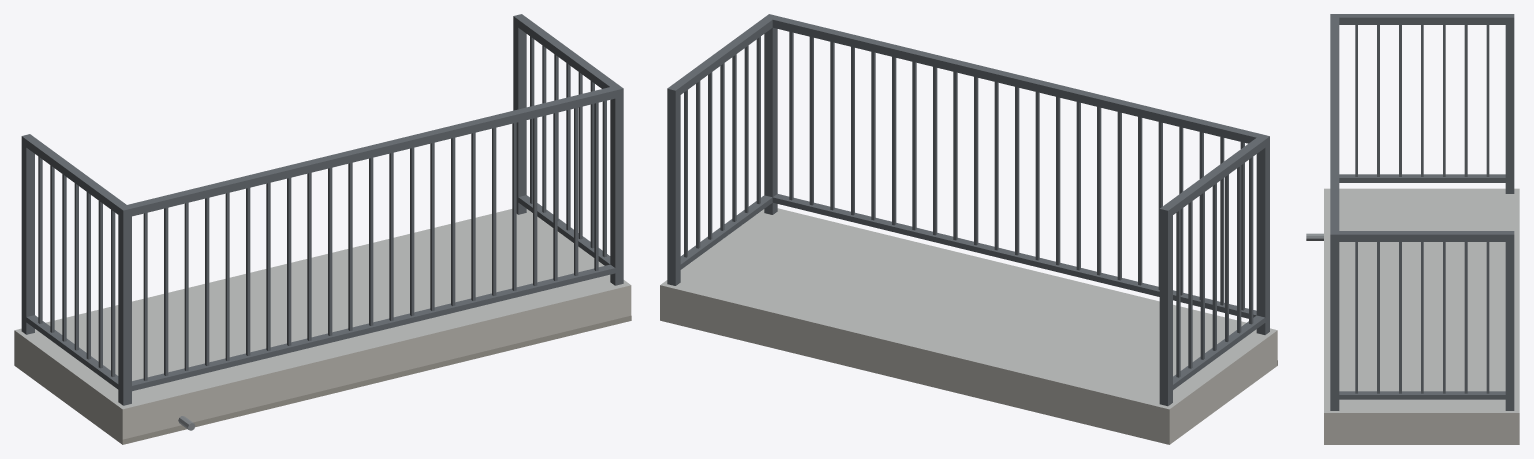
Rendered from SC_Bld_Villa_Balcony_3m.gltf.
3 renders of one model, left to right at view 1: azimuth 30°, elevation 25°; view 2: azimuth 150°, elevation 25°; view 3: azimuth 270°, elevation 25°, orthographic. The views are drawn at different scales.
Visible parts, largest first — view 1: SC_Bld_Villa_Balcony_3m; view 2: SC_Bld_Villa_Balcony_3m; view 3: SC_Bld_Villa_Balcony_3m.
Part boxes in pixels (x1,y1,x2,y2): SC_Bld_Villa_Balcony_3m: (14,14,631,444); SC_Bld_Villa_Balcony_3m: (660,14,1277,444); SC_Bld_Villa_Balcony_3m: (1306,14,1519,444).
Size of the model in its own units: 3 by 1.3 by 1.2.
Materials: 1 (1 with a texture image).
